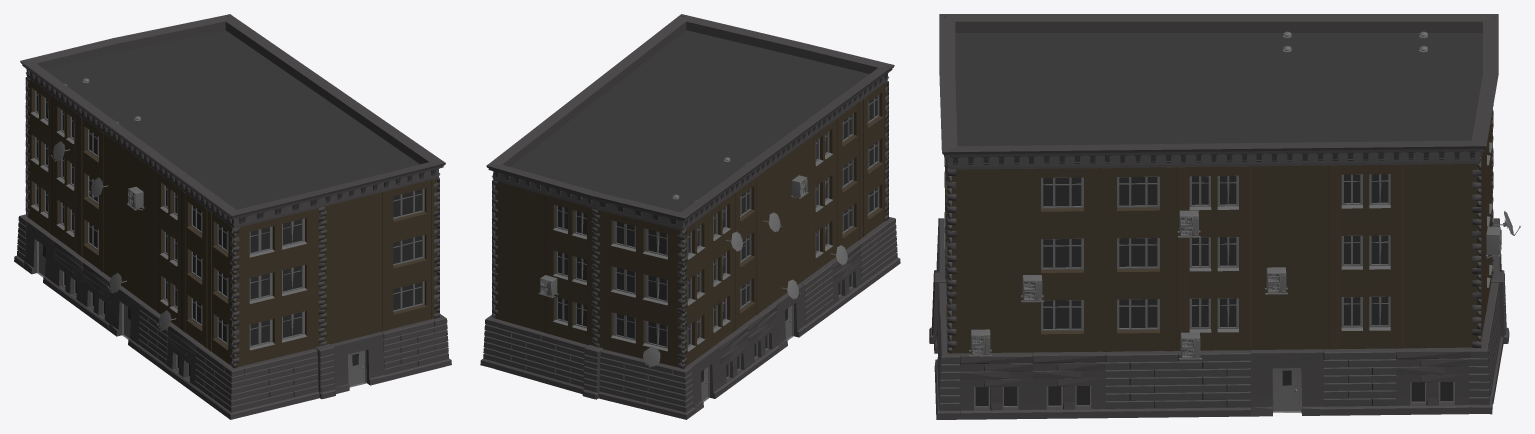
The picture shows the model from 3 angles, left to right: view 1: azimuth 30°, elevation 25°; view 2: azimuth 150°, elevation 25°; view 3: azimuth 270°, elevation 25°; orthographic projection. The views are drawn at different scales.
Parts seen in each view (by area): view 1: Plane.009, middle_floor_wall_02.175, middle_floor_wall_02.174, middle_floor_wall_02.173, ground_floor_wall_02.043, ground_floor_wall_02.034, middle_floor_wall_01.060, middle_floor_wall_01.061, middle_floor_wall_01.059, middle_floor_wall_03.039, middle_floor_wall_03.038, middle_floor_wall_03.037 (+57 smaller); view 2: Plane.009, middle_floor_wall_02.172, middle_floor_wall_02.171, ground_floor_wall_02.042, middle_floor_wall_02.170, ground_floor_wall_02.035, middle_floor_wall_02.154, middle_floor_wall_01.064, ground_floor_wall_02.036, middle_floor_wall_01.062, middle_floor_wall_01.063, middle_floor_wall_02.152 (+57 smaller); view 3: Plane.009, ground_floor_wall_02.041, ground_floor_wall_02.039, ground_floor_wall_03.011, ground_floor_wall_03.012, ground_floor_wall_03.010, ground_floor_wall_01.015, middle_floor_wall_03.053, middle_floor_wall_02.167, middle_floor_wall_02.169, middle_floor_wall_01.078, middle_floor_wall_02.165 (+49 smaller).
Part boxes in pixels (x1,y1,x2,y2): Plane.009: (46, 30, 419, 209); middle_floor_wall_02.175: (236, 207, 321, 274); middle_floor_wall_02.174: (236, 254, 320, 320); middle_floor_wall_02.173: (236, 301, 320, 367); ground_floor_wall_02.043: (242, 348, 319, 415); ground_floor_wall_02.034: (381, 319, 436, 381); middle_floor_wall_01.060: (324, 239, 380, 298); middle_floor_wall_01.061: (324, 192, 380, 252); middle_floor_wall_01.059: (324, 285, 380, 344); middle_floor_wall_03.039: (380, 178, 436, 238); middle_floor_wall_03.038: (380, 225, 436, 285); middle_floor_wall_03.037: (380, 271, 436, 331); Plane.009: (511, 30, 869, 212); middle_floor_wall_02.172: (596, 209, 680, 275); middle_floor_wall_02.171: (597, 256, 680, 321); ground_floor_wall_02.042: (598, 349, 675, 415); middle_floor_wall_02.170: (597, 302, 680, 367); ground_floor_wall_02.035: (495, 320, 543, 381); middle_floor_wall_02.154: (544, 195, 594, 254); middle_floor_wall_01.064: (495, 181, 544, 240); ground_floor_wall_02.036: (539, 332, 587, 393); middle_floor_wall_01.062: (495, 273, 544, 332); middle_floor_wall_01.063: (495, 227, 544, 285); middle_floor_wall_02.152: (544, 290, 593, 345); Plane.009: (955, 33, 1482, 146); ground_floor_wall_02.041: (1323, 348, 1396, 415); ground_floor_wall_02.039: (1105, 351, 1178, 418); ground_floor_wall_03.011: (1032, 351, 1105, 418); ground_floor_wall_03.012: (1396, 347, 1468, 414); ground_floor_wall_03.010: (960, 352, 1032, 419); ground_floor_wall_01.015: (1250, 349, 1323, 416); middle_floor_wall_03.053: (1024, 168, 1100, 230); middle_floor_wall_02.167: (1328, 226, 1404, 287); middle_floor_wall_02.169: (1328, 164, 1404, 226); middle_floor_wall_01.078: (1252, 165, 1328, 227); middle_floor_wall_02.165: (1328, 287, 1404, 349).
Size of the model in its own units: 1594 by 1313 by 2652.
